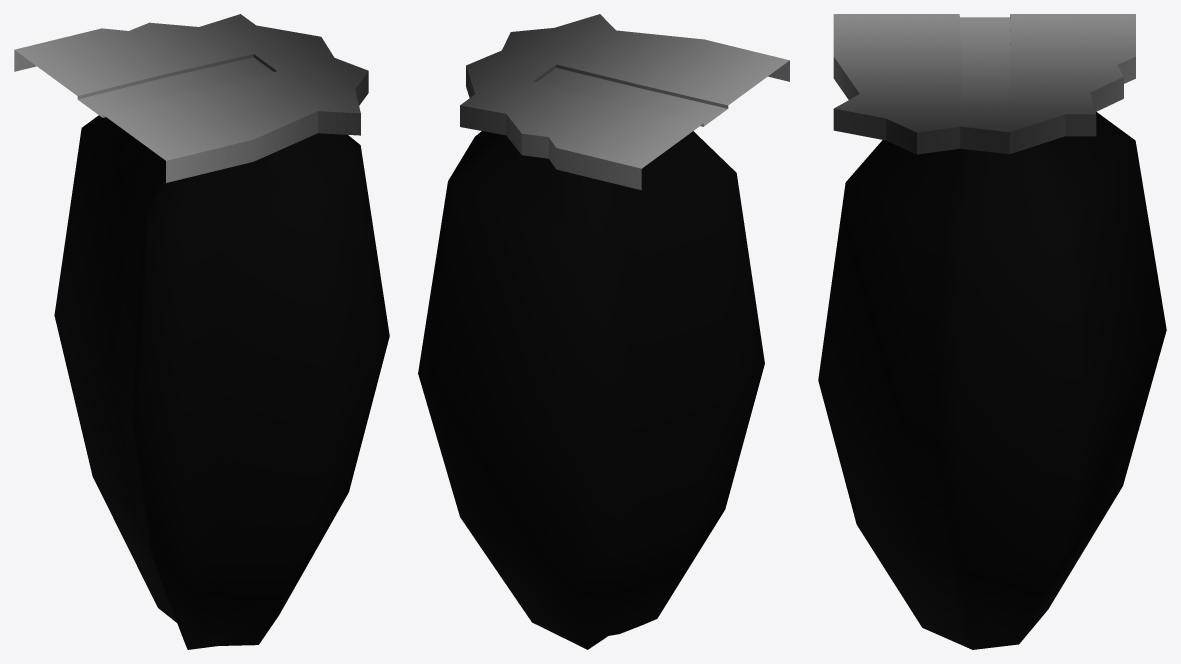
The model's file is EndStreet.fbx.
3 renders of one model, left to right at view 1: azimuth 30°, elevation 25°; view 2: azimuth 150°, elevation 25°; view 3: azimuth 270°, elevation 25°, orthographic. The views are drawn at different scales.
Parts seen in each view (by area): view 1: StreetGerade_LOD0.001, StreetGerade_LOD0.007, StreetGerade_LOD0.006, StreetGerade_LOD0.013, StreetGerade_LOD0.011, StreetGerade_LOD0.012, StreetGerade_LOD0.002; view 2: StreetGerade_LOD0.001, StreetGerade_LOD0.012, StreetGerade_LOD0.007, StreetGerade_LOD0.006, StreetGerade_LOD0.011, StreetGerade_LOD0.002, StreetGerade_LOD0.008; view 3: StreetGerade_LOD0.001, StreetGerade_LOD0.007, StreetGerade_LOD0.006, StreetGerade_LOD0.011, StreetGerade_LOD0.012, StreetGerade_LOD0.002, StreetGerade_LOD0.013.
Boxes of the visible parts, bbox=[...] form: StreetGerade_LOD0.001: bbox=[14, 14, 389, 649]; StreetGerade_LOD0.007: bbox=[195, 47, 248, 82]; StreetGerade_LOD0.006: bbox=[144, 49, 198, 76]; StreetGerade_LOD0.013: bbox=[220, 45, 263, 72]; StreetGerade_LOD0.011: bbox=[218, 77, 268, 100]; StreetGerade_LOD0.012: bbox=[241, 64, 284, 98]; StreetGerade_LOD0.002: bbox=[243, 45, 293, 75]; StreetGerade_LOD0.001: bbox=[418, 14, 789, 649]; StreetGerade_LOD0.012: bbox=[543, 54, 615, 81]; StreetGerade_LOD0.007: bbox=[537, 74, 595, 104]; StreetGerade_LOD0.006: bbox=[553, 95, 611, 120]; StreetGerade_LOD0.011: bbox=[580, 54, 643, 77]; StreetGerade_LOD0.002: bbox=[517, 59, 562, 89]; StreetGerade_LOD0.008: bbox=[587, 74, 631, 96]; StreetGerade_LOD0.001: bbox=[818, 14, 1166, 649]; StreetGerade_LOD0.007: bbox=[961, 73, 1046, 90]; StreetGerade_LOD0.006: bbox=[1010, 59, 1063, 79]; StreetGerade_LOD0.011: bbox=[909, 63, 961, 86]; StreetGerade_LOD0.012: bbox=[909, 82, 986, 98]; StreetGerade_LOD0.002: bbox=[948, 99, 1030, 109]; StreetGerade_LOD0.013: bbox=[983, 86, 1037, 98].
Bounding box in the file's own units: 2624 × 4819 × 2767.
